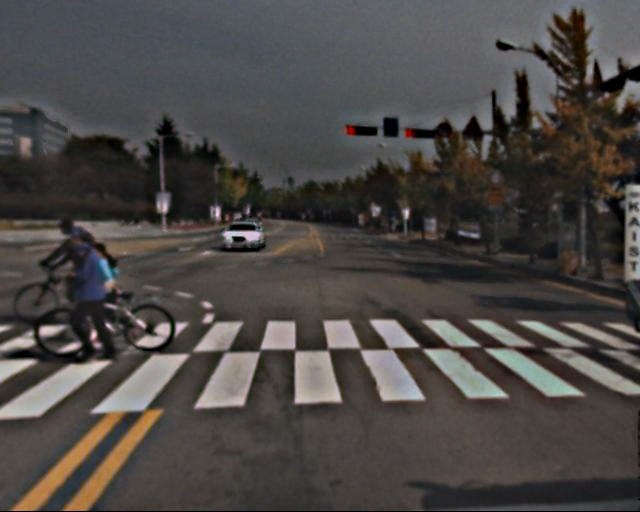person: (50, 213, 139, 353)
